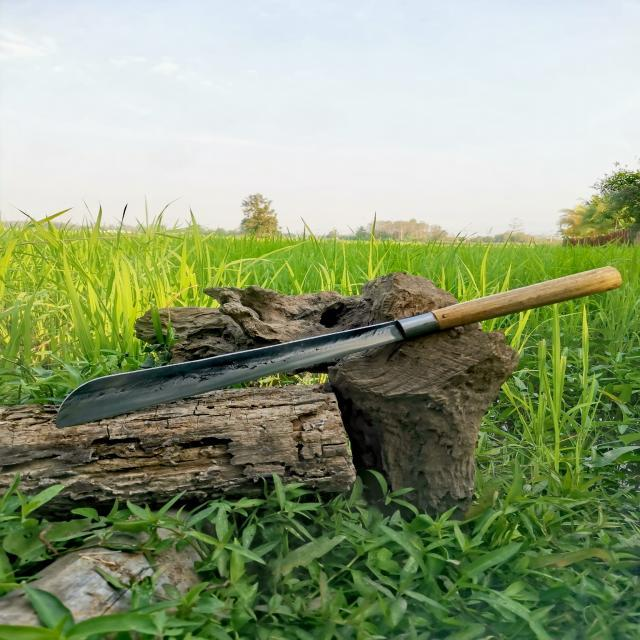eto: (51, 261, 628, 432)
